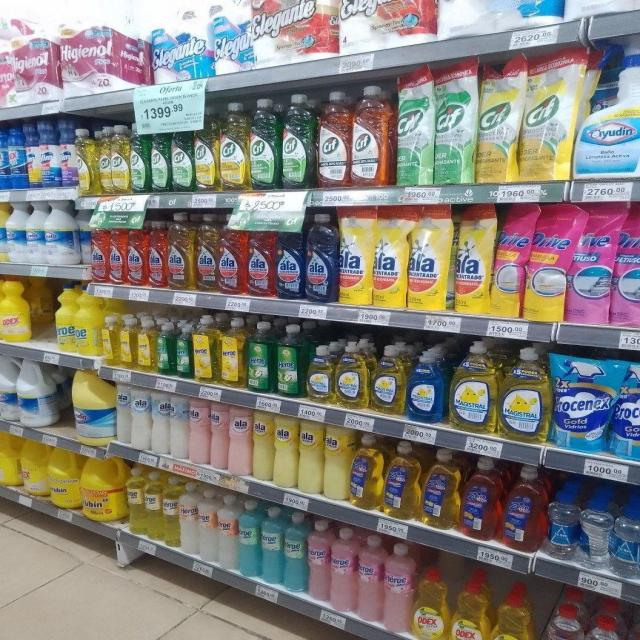ala_conc_amarillo: (168, 212, 194, 290), (195, 213, 218, 292)
ala_conc_azul: (304, 213, 336, 303), (276, 213, 304, 300)
ala_conc_rojo: (218, 214, 246, 295), (247, 215, 274, 298), (148, 217, 168, 289), (128, 215, 148, 287), (90, 214, 109, 284), (109, 216, 127, 285), (628, 607, 640, 640)
ala_crem_amarillo: (324, 422, 349, 500), (298, 418, 323, 495), (274, 413, 297, 489), (252, 409, 273, 482)
ala_crem_blanco: (131, 386, 151, 450), (170, 392, 188, 460), (152, 389, 170, 455), (115, 382, 130, 446)
ala_crem_rosado: (228, 405, 251, 476)
ala_sachet_amarillo: (408, 204, 450, 310), (452, 204, 491, 314), (492, 205, 524, 318), (373, 205, 406, 308), (338, 207, 372, 306)
cif_conc_bot_amarilla: (219, 101, 248, 191), (195, 106, 218, 192), (76, 127, 96, 196), (111, 124, 130, 194), (98, 126, 112, 195)
cif_conc_botella_roja: (351, 84, 391, 188), (317, 89, 350, 188)
cif_conc_botella_verde: (281, 93, 315, 189), (249, 97, 280, 191), (171, 119, 193, 193), (150, 122, 170, 194), (130, 123, 149, 194)
cif_conc_sachet_amarillo: (521, 50, 575, 182), (477, 57, 519, 183)
cif_conc_sachet_verde: (436, 58, 476, 185)
gigante: (350, 433, 382, 510)
heroe: (383, 542, 413, 632), (331, 524, 357, 612), (358, 534, 383, 623), (276, 322, 304, 397), (248, 320, 276, 393), (283, 512, 307, 592), (220, 317, 247, 388), (308, 518, 330, 603), (193, 315, 220, 383), (261, 505, 283, 585), (239, 498, 261, 578), (198, 486, 218, 564), (218, 493, 238, 570), (180, 480, 198, 556), (162, 473, 180, 548), (144, 470, 162, 541), (126, 466, 144, 536), (156, 322, 176, 376), (176, 323, 194, 379)
magistral_con_amarillo: (499, 346, 550, 442), (449, 341, 497, 433), (370, 343, 406, 415), (336, 340, 368, 409), (307, 344, 334, 404)
magistral_con_azul: (407, 348, 446, 423)
odex: (413, 565, 449, 640), (488, 585, 533, 640), (450, 575, 488, 640)
zorro: (502, 464, 544, 552), (461, 456, 501, 540), (422, 448, 459, 529), (384, 440, 421, 520)
